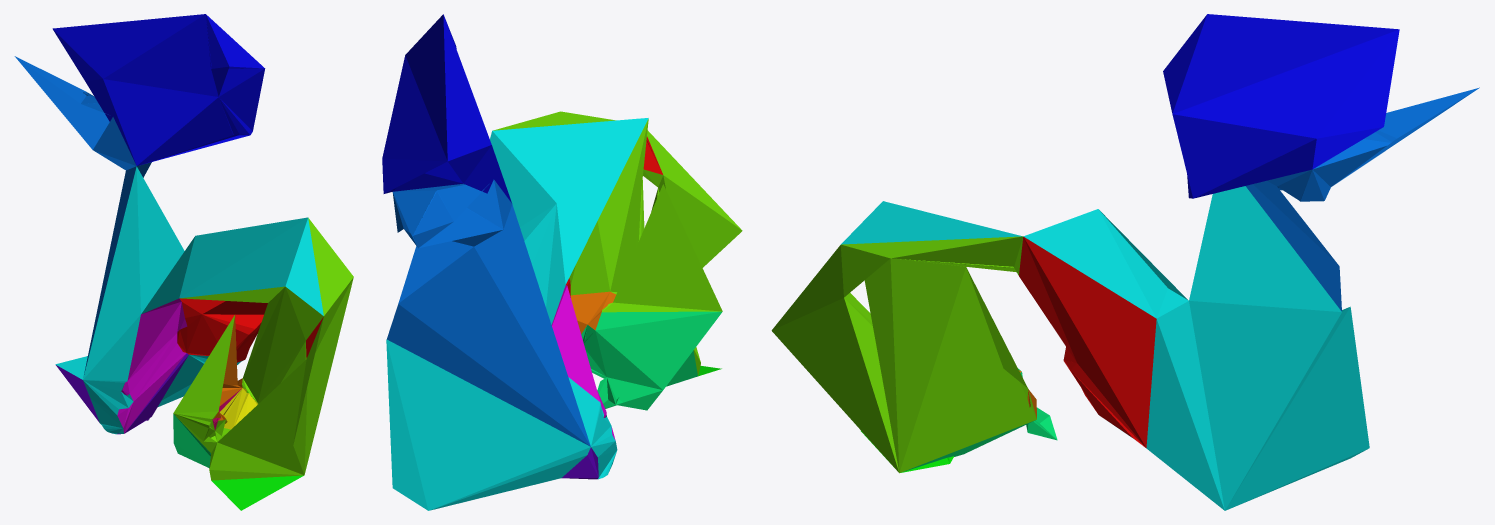
File: Dragon_80K_nanite_LOD9.fbx
3 renders of one model, left to right at view 1: azimuth 30°, elevation 25°; view 2: azimuth 150°, elevation 25°; view 3: azimuth 270°, elevation 25°, orthographic. The views are drawn at different scales.
Size of the model in its own units: 0.3549 by 0.7046 by 0.9344.
